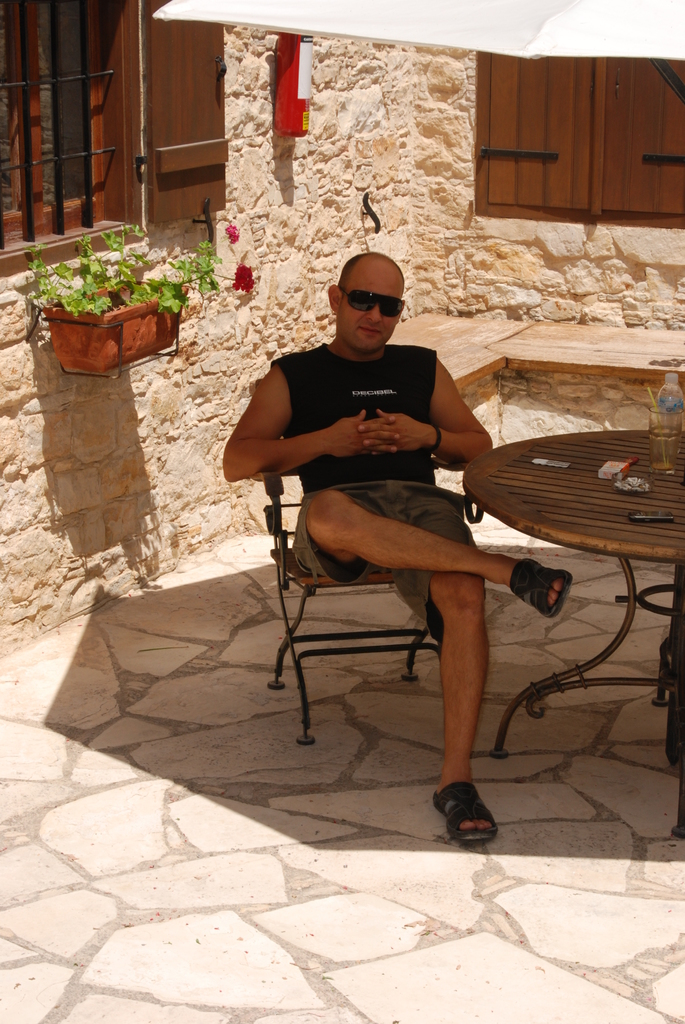Chair: (275, 439, 433, 764)
